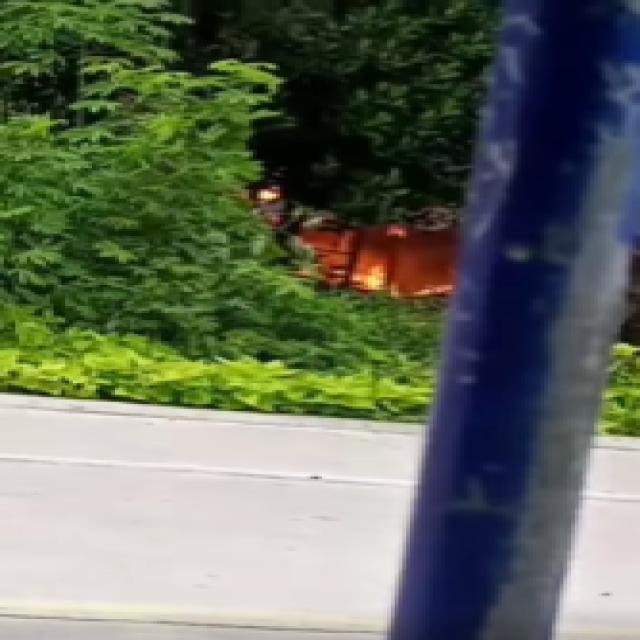Fire: (326, 234, 462, 314)
